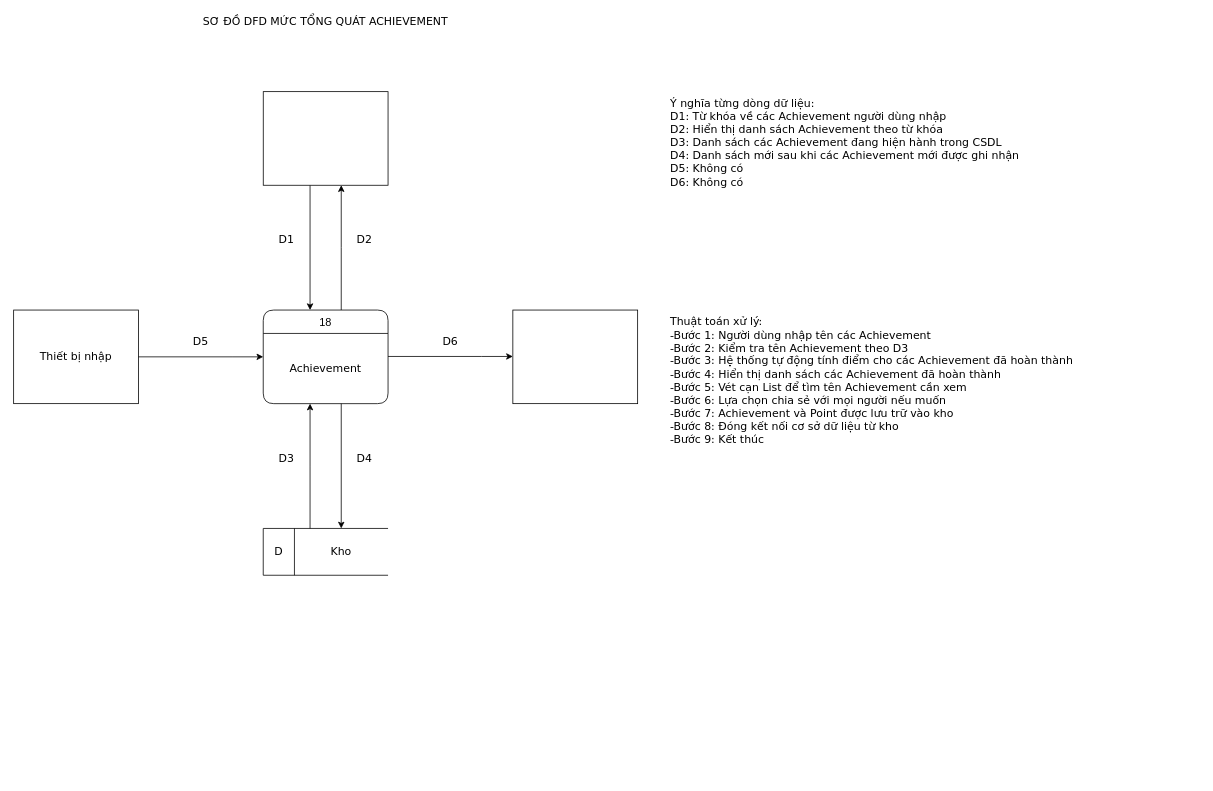
Some shapes in this 1213 by 791 pixel diagram are drawn without their labels. The shapes that lost their labels are listed below. From the top down, each one's box as (x1, y1, x2, y2) in pixels, then its label:
(262, 91, 388, 185): User
(512, 309, 638, 404): Thiết bị xuất
